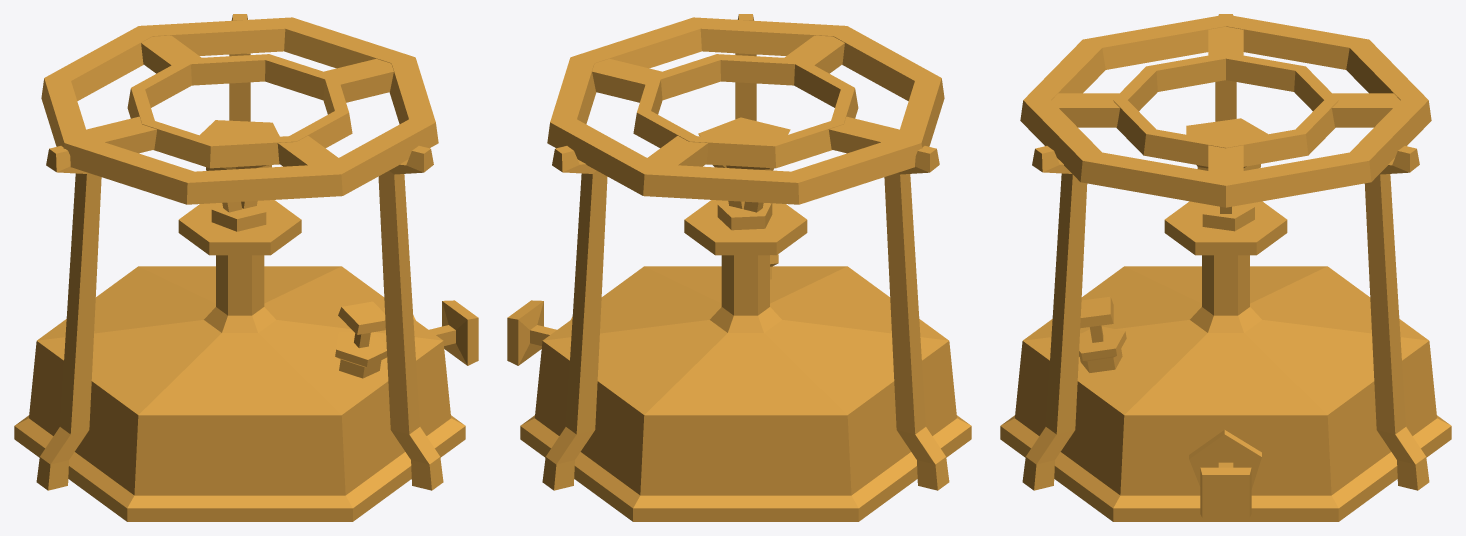
The model's file is SM_Burner_Oil_Holder.fbx.
3 renders of one model, left to right at view 1: azimuth 30°, elevation 25°; view 2: azimuth 150°, elevation 25°; view 3: azimuth 270°, elevation 25°, orthographic.
Visible parts, largest first — view 1: burner-oil-holder; view 2: burner-oil-holder; view 3: burner-oil-holder.
Part boxes in pixels (x1,y1,x2,y2): burner-oil-holder: (14, 14, 478, 521); burner-oil-holder: (507, 14, 971, 521); burner-oil-holder: (1000, 14, 1451, 521).
Size of the model in its own units: 0.1996 by 0.1525 by 0.1838.
